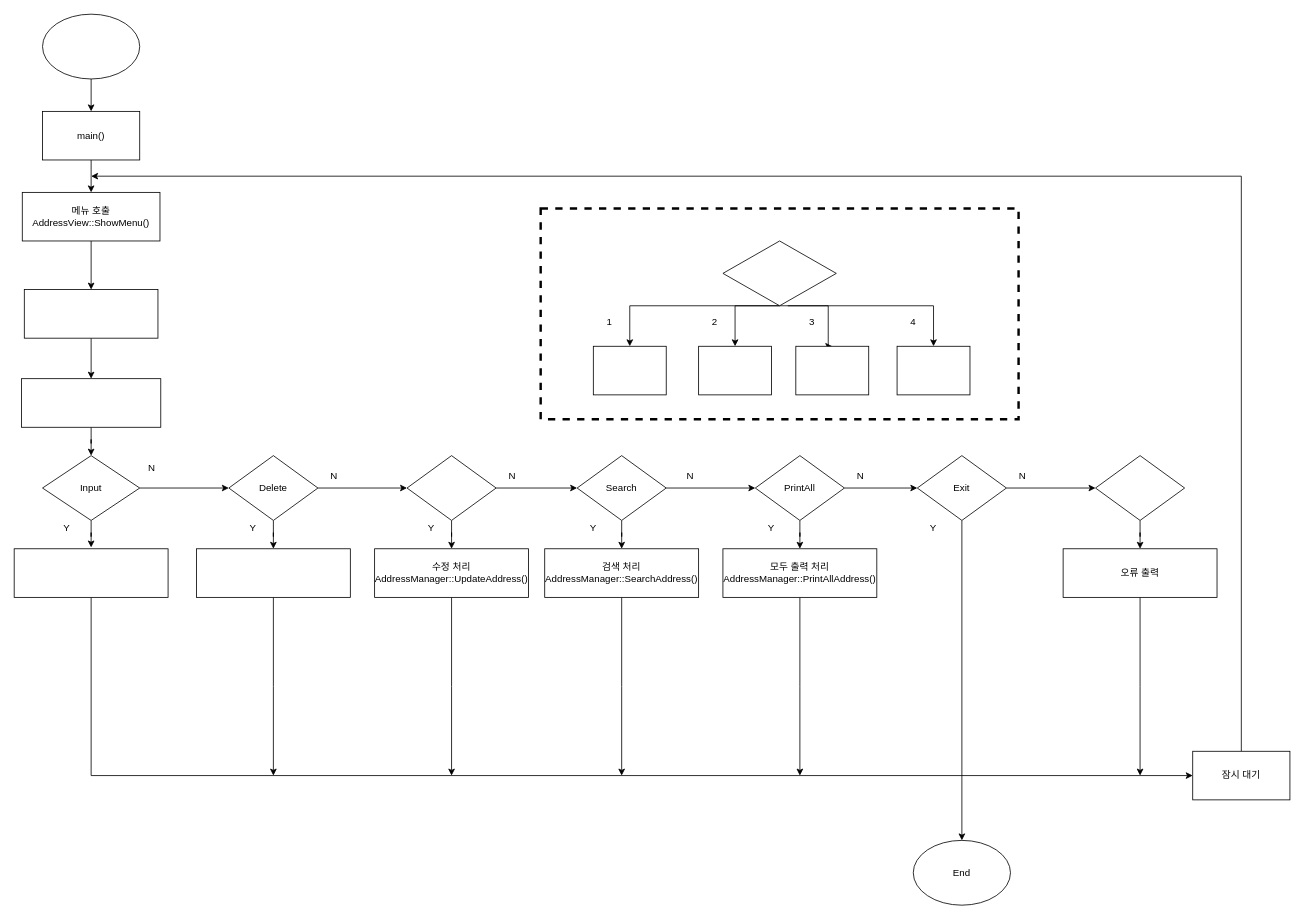
Some shapes in this 1304 by 919 pixel diagram are drawn without their labels. Here are the shapes that lost their labels. From the top down, the centre of each, then its label:
At (x=91, y=46): "start".
At (x=90, y=313): "번호 입력 AddressView::GetSelMenu()".
At (x=91, y=402): "선택 번호 전달 AddressView::DispatchMenu()".
At (x=451, y=487): "Update".
At (x=1140, y=487): "ETC".
At (x=90, y=572): "입력 처리 AddressManager::InputAddress()".
At (x=273, y=572): "삭제 처리 AddressManager::DeleteAddress()".
